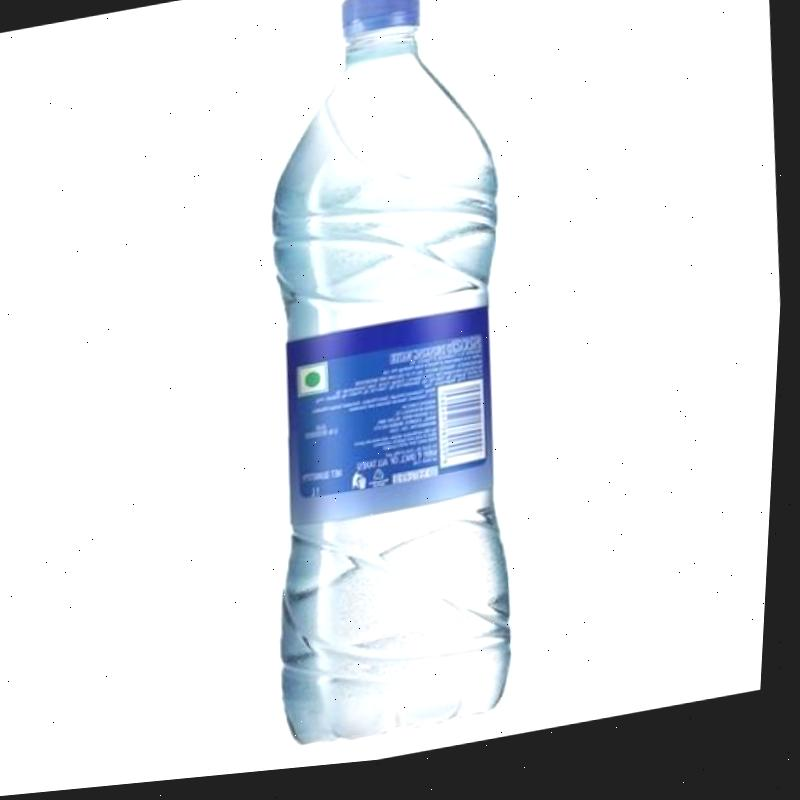botella: (231, 0, 554, 762)
